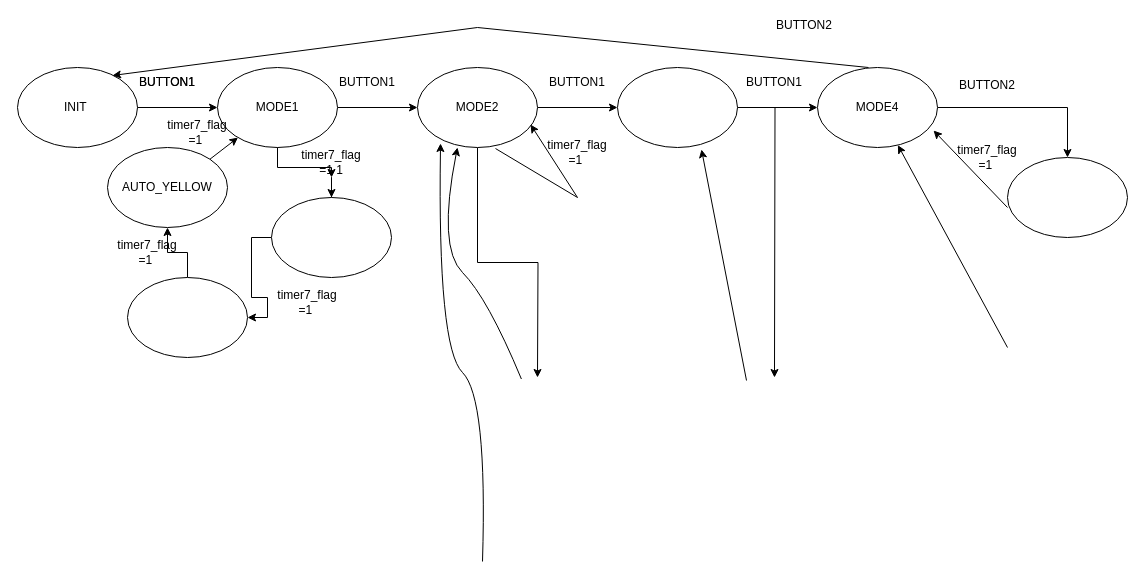
Image size: 1145x579. Some labels were removed from this diagram. The shapes that lost their labels are listed below. From the top down, each one's centre as x and y in pixels, then its label:
At (x=677, y=107): "MODE3".
At (x=331, y=237): "AUTO_RED".
At (x=187, y=317): "AUTO GREEN".
